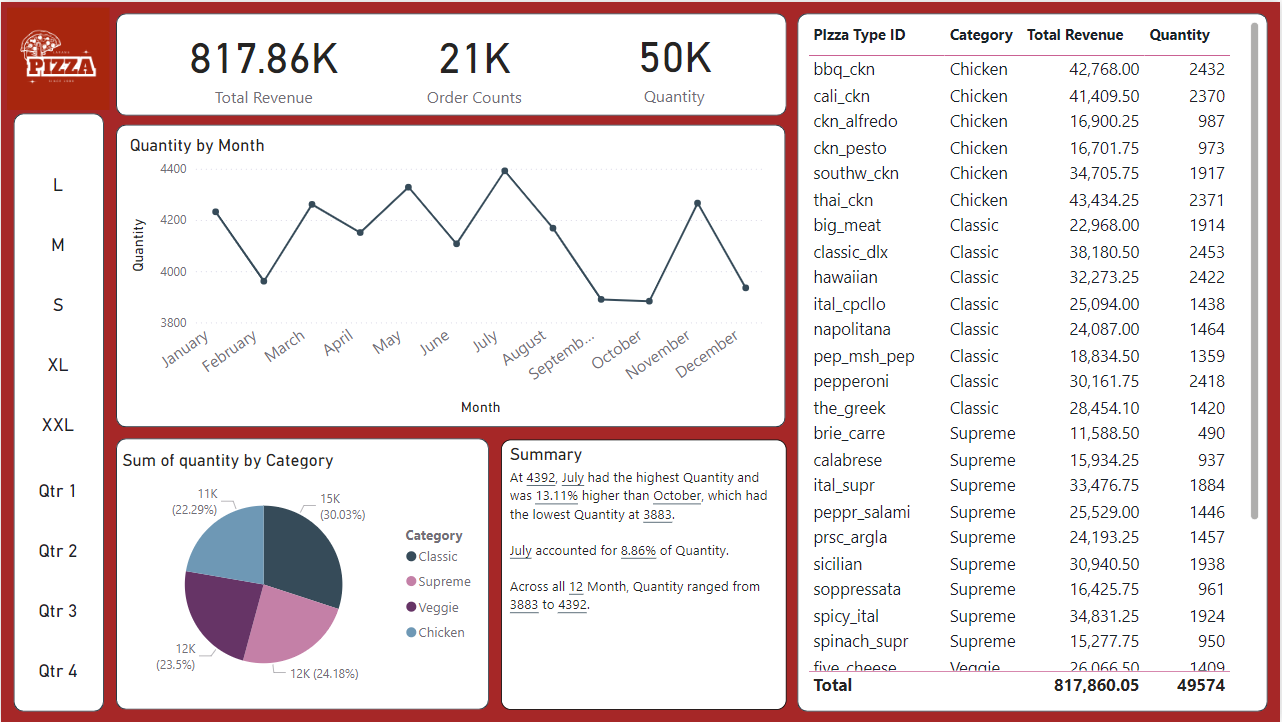

Layout of this report page (visuals, bound fields, positions):
{"tool":"powerbi","page":{"name":"Page 1","canvas":[1280,720],"ordinal":0},"visuals":[{"type":"image","box":[1.4,0,112.5,113.9],"z":0},{"type":"shape","box":[114.6,436.7,373,271.4],"z":1000},{"type":"shape","box":[796.3,10.9,470.5,698.5],"z":2000},{"type":"shape","box":[114.6,123.1,669.6,302.8],"z":3000},{"type":"shape","box":[114.6,10.9,670.8,102.5],"z":4000},{"type":"shape","box":[12.1,111,90.5,598.4],"z":5000},{"type":"card","fields":{"Values":["Table.Total Revenue"]},"box":[167.7,14.4,190.8,96],"z":6000},{"type":"card","fields":{"Values":["Table.order_counts"]},"box":[379.2,15.6,189.5,96],"z":7000},{"type":"lineChart","fields":{"Category":["orders.date.Variation.Date Hierarchy.Month"],"Y":["Table.quantity"]},"box":[124.3,132.7,645.4,285.9],"z":8000},{"type":"tableEx","fields":{"Values":["pizza_types.PIzza Type ID","pizza_types.category","Table.Total Revenue","Table.quantity"]},"box":[801.1,14.5,462.1,685.3],"z":9000},{"type":"advancedSlicerVisual","fields":{"Values":["orders.date.Variation.Date Hierarchy.Quarter"]},"box":[18.1,457.4,79.6,244.9],"z":10000},{"type":"advancedSlicerVisual","fields":{"Values":["pizzas.size"]},"box":[17.8,150.9,79.6,308.7],"z":11000},{"type":"card","fields":{"Values":["Table.quantity"]},"box":[576.8,14.2,194.2,96],"z":12000},{"type":"pieChart","fields":{"Category":["pizza_types.Category"],"Y":["Sum(order_details.quantity)"]},"box":[116.6,447.3,369.1,251.1],"z":13000},{"type":"textbox","title":"Summary","box":[499.5,437.7,285.4,270.3],"z":14000}]}

Visuals, with their boxes in screenshot pixels (x1, y1, x2, y2), scaled from the page's 1280x720 canvas onto the 1282x722 screenshot:
image: [left=1, top=0, right=114, bottom=114]
shape: [left=115, top=438, right=488, bottom=710]
shape: [left=798, top=11, right=1269, bottom=711]
shape: [left=115, top=123, right=785, bottom=427]
shape: [left=115, top=11, right=787, bottom=114]
shape: [left=12, top=111, right=103, bottom=711]
card - Table.Total Revenue: [left=168, top=14, right=359, bottom=111]
card - Table.order_counts: [left=380, top=16, right=570, bottom=112]
lineChart - orders.date.Variation.Date Hierarchy.Month x Table.quantity: [left=124, top=133, right=771, bottom=420]
tableEx - pizza_types.PIzza Type ID x pizza_types.category: [left=802, top=15, right=1265, bottom=702]
advancedSlicerVisual - orders.date.Variation.Date Hierarchy.Quarter: [left=18, top=459, right=98, bottom=704]
advancedSlicerVisual - pizzas.size: [left=18, top=151, right=98, bottom=461]
card - Table.quantity: [left=578, top=14, right=772, bottom=111]
pieChart - pizza_types.Category x Sum(order_details.quantity): [left=117, top=449, right=486, bottom=700]
"Summary" textbox: [left=500, top=439, right=786, bottom=710]
